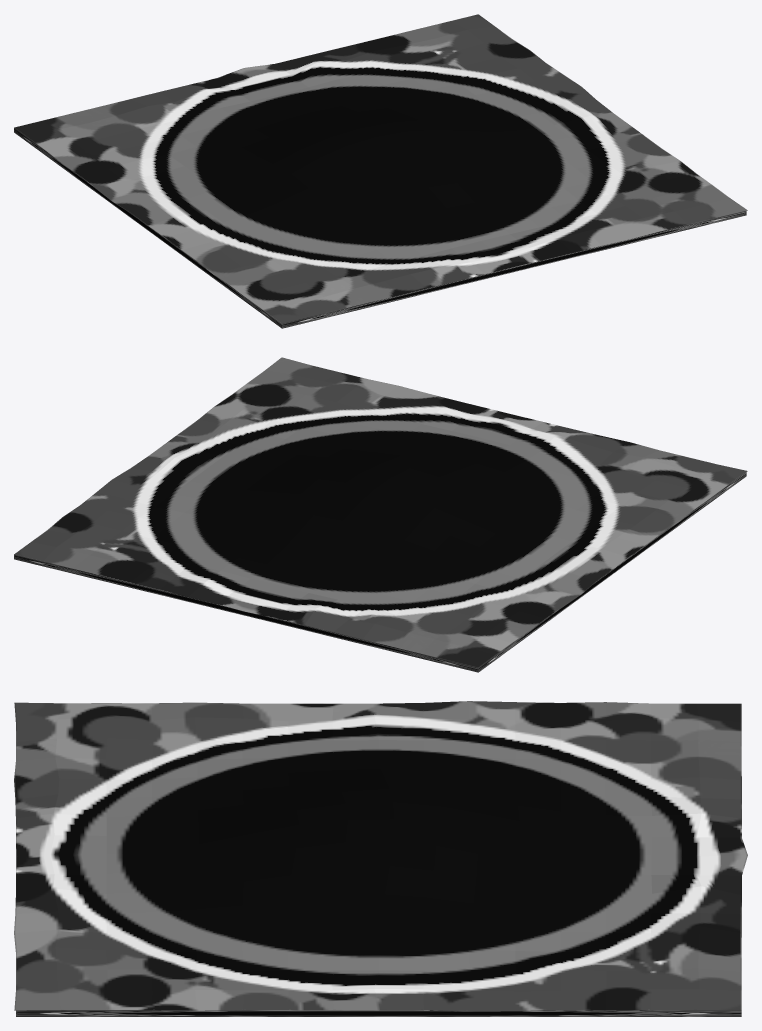
The model's file is BlackHole.fbx.
The picture shows the model from 3 angles, top to bottom: view 1: azimuth 30°, elevation 25°; view 2: azimuth 150°, elevation 25°; view 3: azimuth 270°, elevation 25°; orthographic projection. The views are drawn at different scales.
Visible parts, largest first — view 1: Cube; view 2: Cube; view 3: Cube.
Boxes of the visible parts, x1=… form: Cube: x1=14, y1=14, x2=747, y2=328; Cube: x1=14, y1=357, x2=747, y2=672; Cube: x1=14, y1=701, x2=747, y2=1016.
Size of the model in its own units: 0.0202 by 0.00135 by 0.0202.
1 material, 1 textured.
